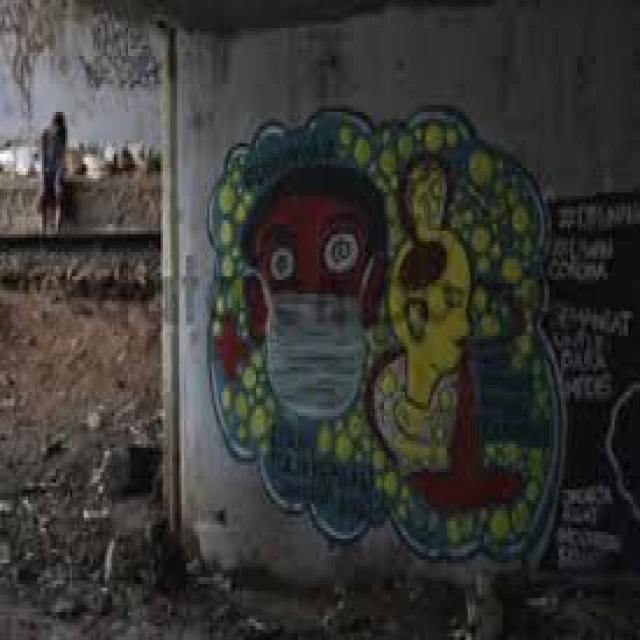-: (204, 105, 564, 578), (546, 191, 640, 583), (81, 18, 166, 104)
